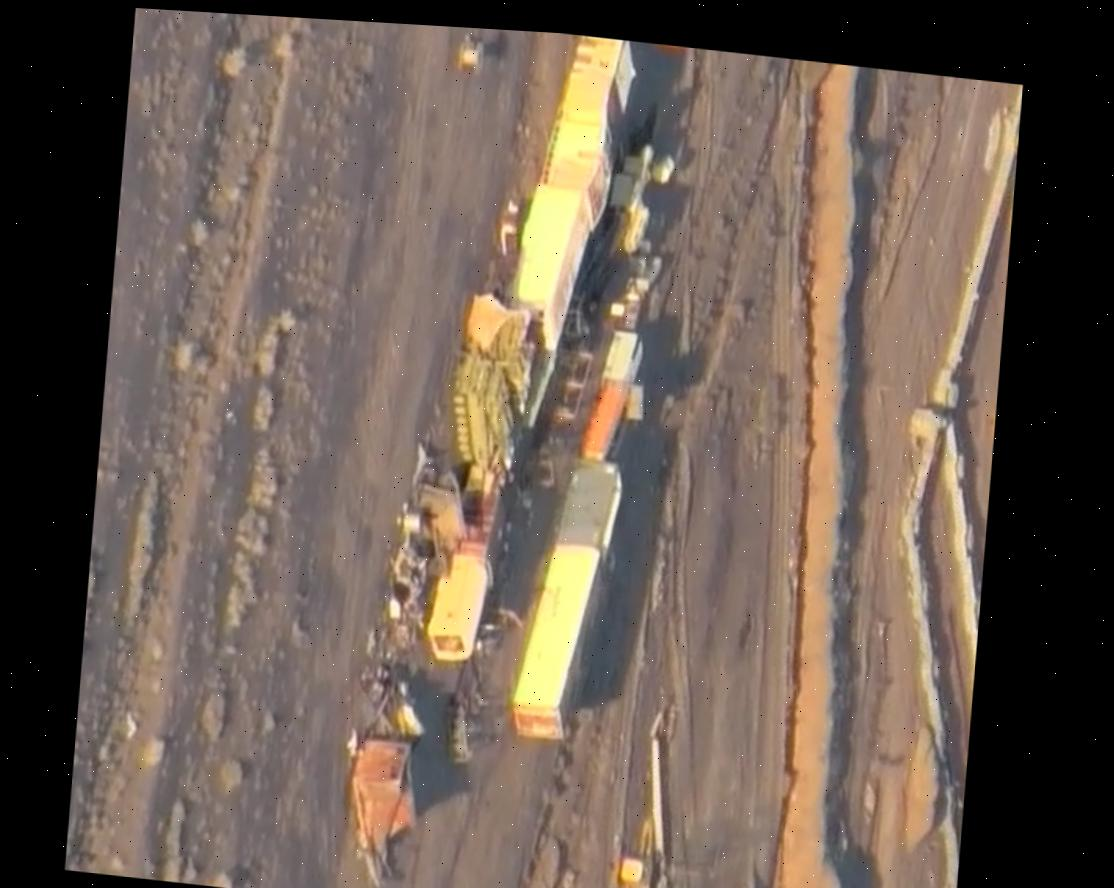armored_car: (437, 348, 529, 474)
